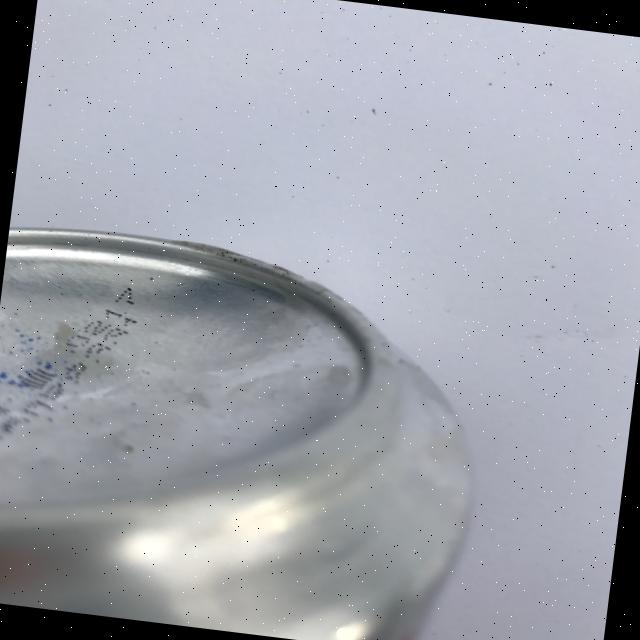metal: (0, 217, 501, 640)
